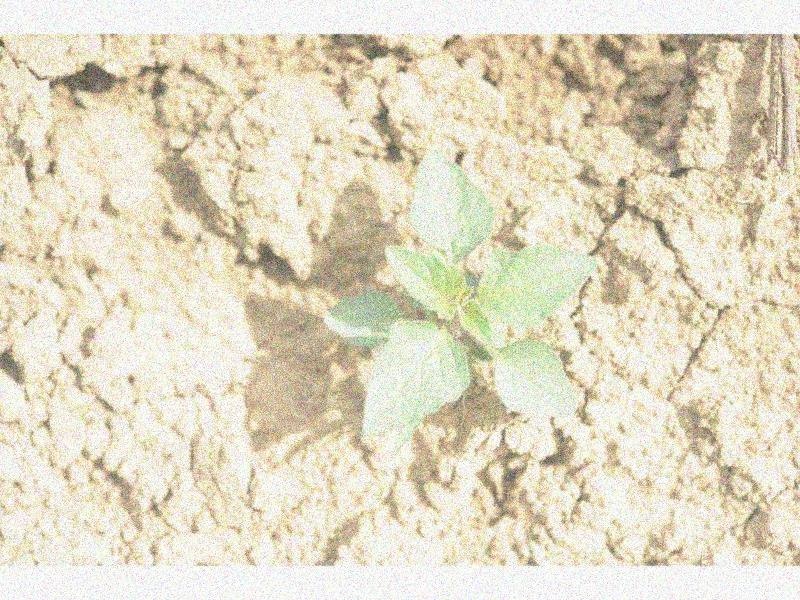nightshade: (324, 153, 597, 437)
